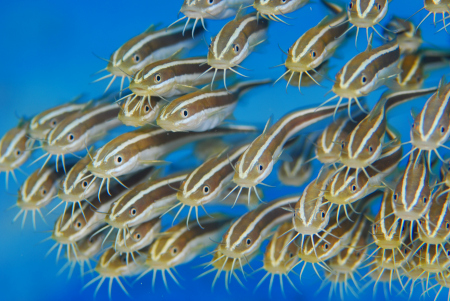gonzui: (150, 83, 247, 135)
